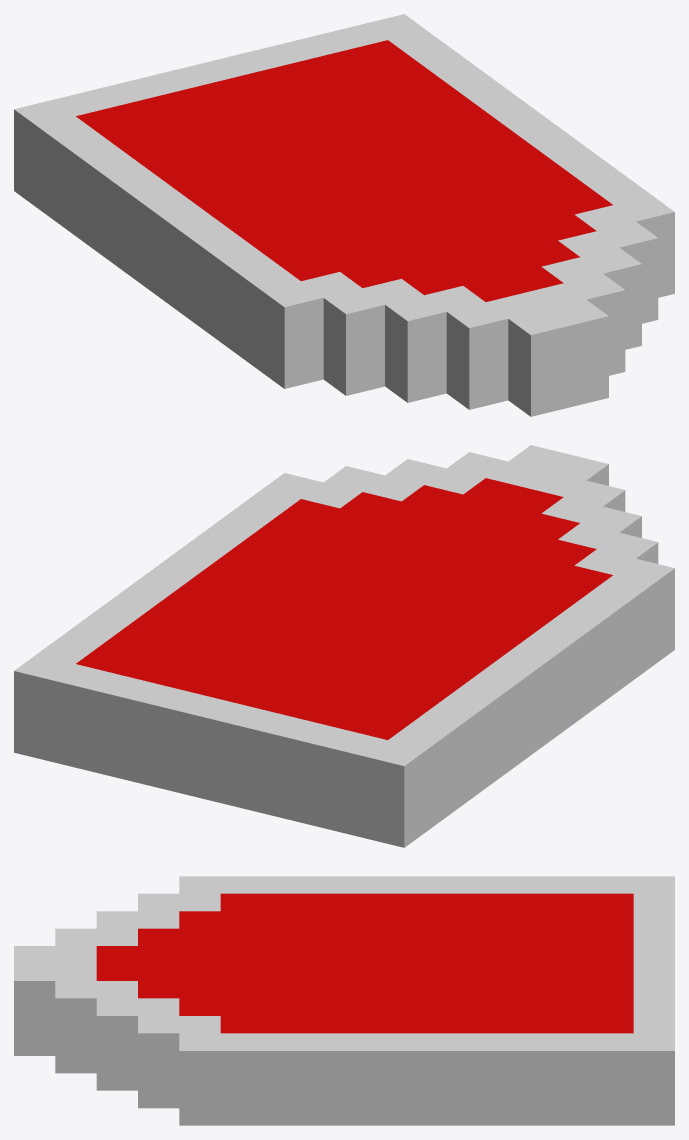
Rendered from shield-3.obj.
3 views of the same model, one above another, from view 1: azimuth 30°, elevation 25°; view 2: azimuth 150°, elevation 25°; view 3: azimuth 270°, elevation 25° (orthographic). The views are drawn at different scales.
Bounding box in the file's own units: 10 × 2 × 16.
Materials: 1 (1 with a texture image).
